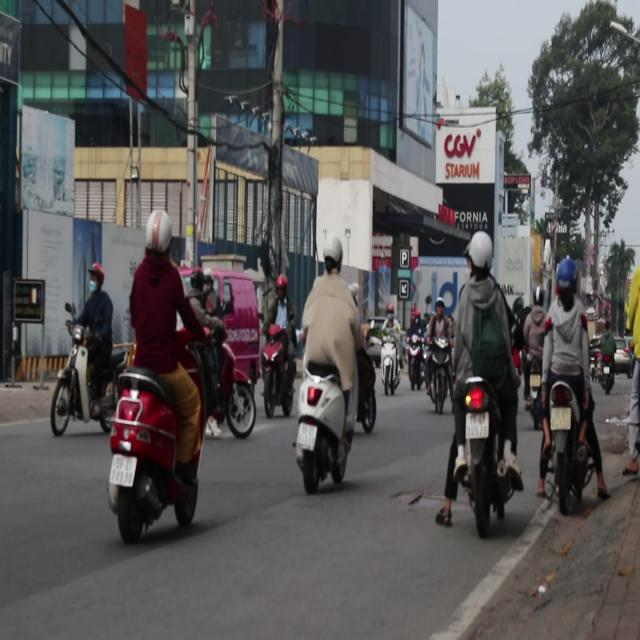motorbike: (105, 352, 202, 544), (438, 374, 517, 537), (183, 281, 260, 440), (538, 370, 606, 520), (292, 353, 361, 496), (55, 318, 125, 422), (592, 329, 618, 398), (407, 335, 429, 398), (379, 337, 400, 401)
